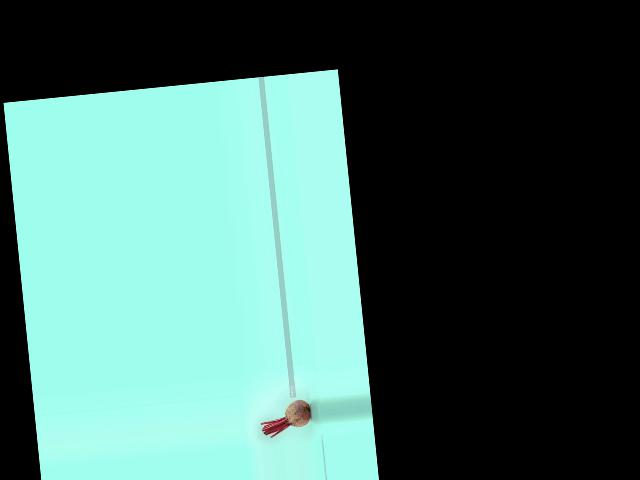beet: (258, 398, 312, 438)
